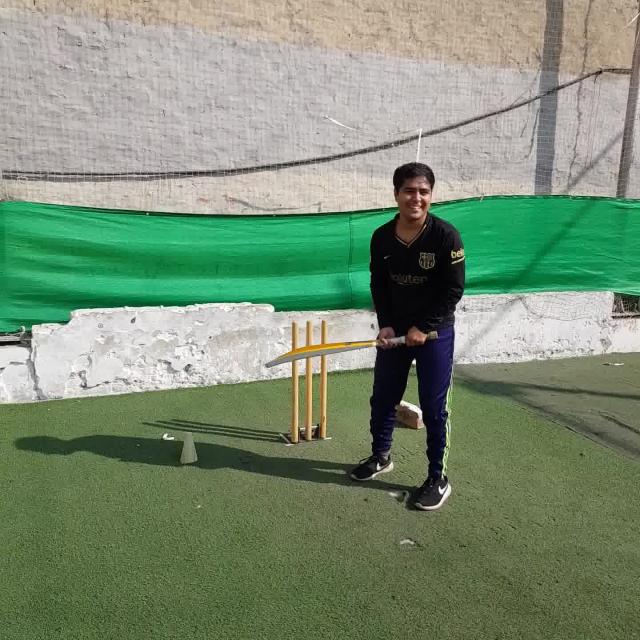bat: (264, 327, 437, 367)
